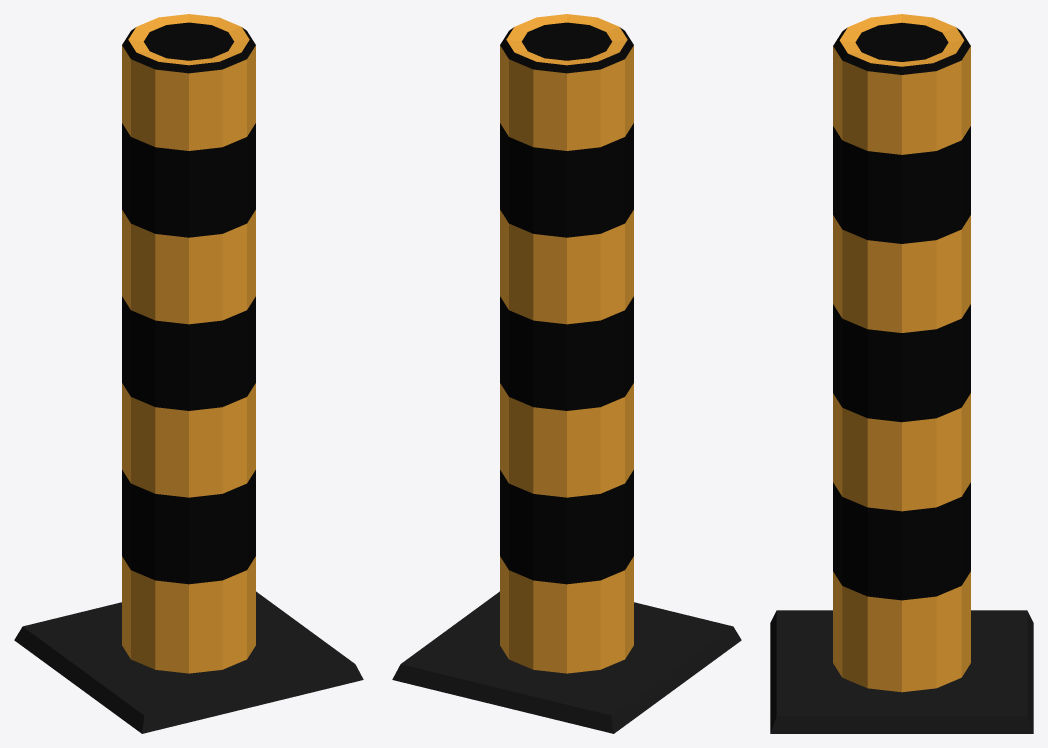
Rendered from PreloadedTube_DummyPreloadedTube.fbx.
3 renders of one model, left to right at view 1: azimuth 30°, elevation 25°; view 2: azimuth 150°, elevation 25°; view 3: azimuth 270°, elevation 25°, orthographic. The views are drawn at different scales.
Visible parts, largest first — view 1: PreloadedTube_DummyPreloadedTube; view 2: PreloadedTube_DummyPreloadedTube; view 3: PreloadedTube_DummyPreloadedTube.
Boxes of the visible parts, <box> form: PreloadedTube_DummyPreloadedTube: <box>14,14,363,733</box>; PreloadedTube_DummyPreloadedTube: <box>392,14,741,733</box>; PreloadedTube_DummyPreloadedTube: <box>770,14,1033,733</box>.
Size of the model in its own units: 0.191 by 0.5107 by 0.191.
